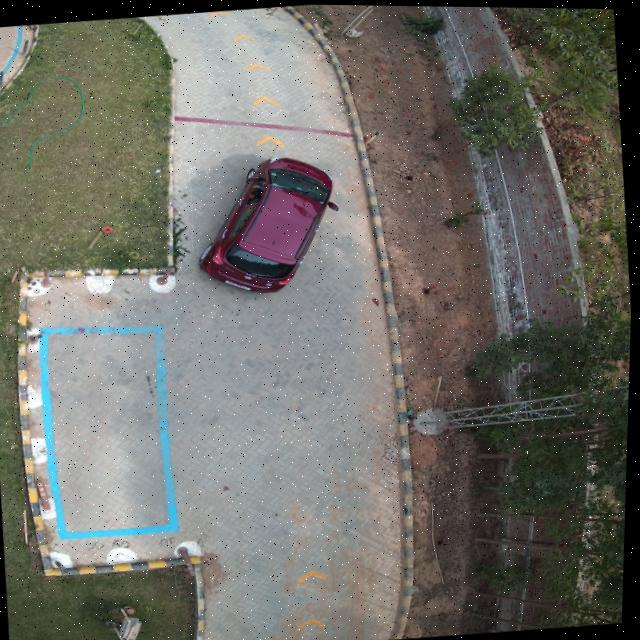car: (200, 155, 339, 292)
